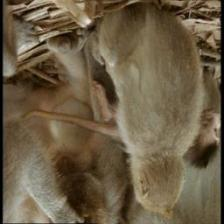monkey: (186, 106, 222, 169), (43, 146, 82, 196)
